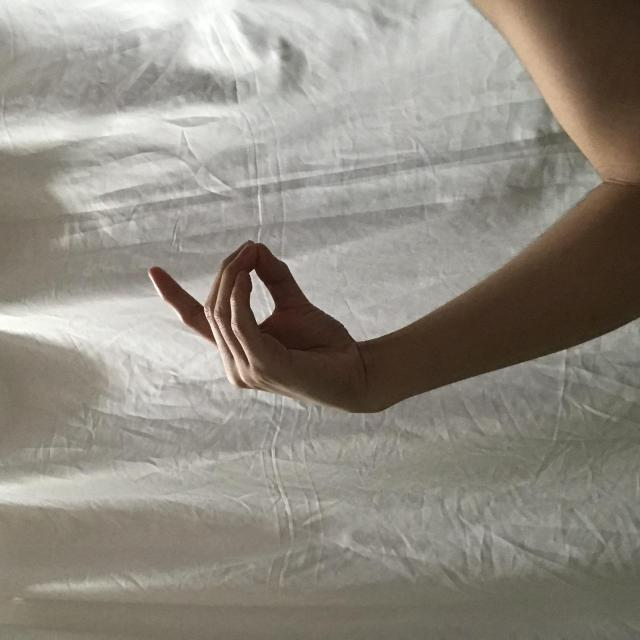D: (231, 147, 400, 353)
